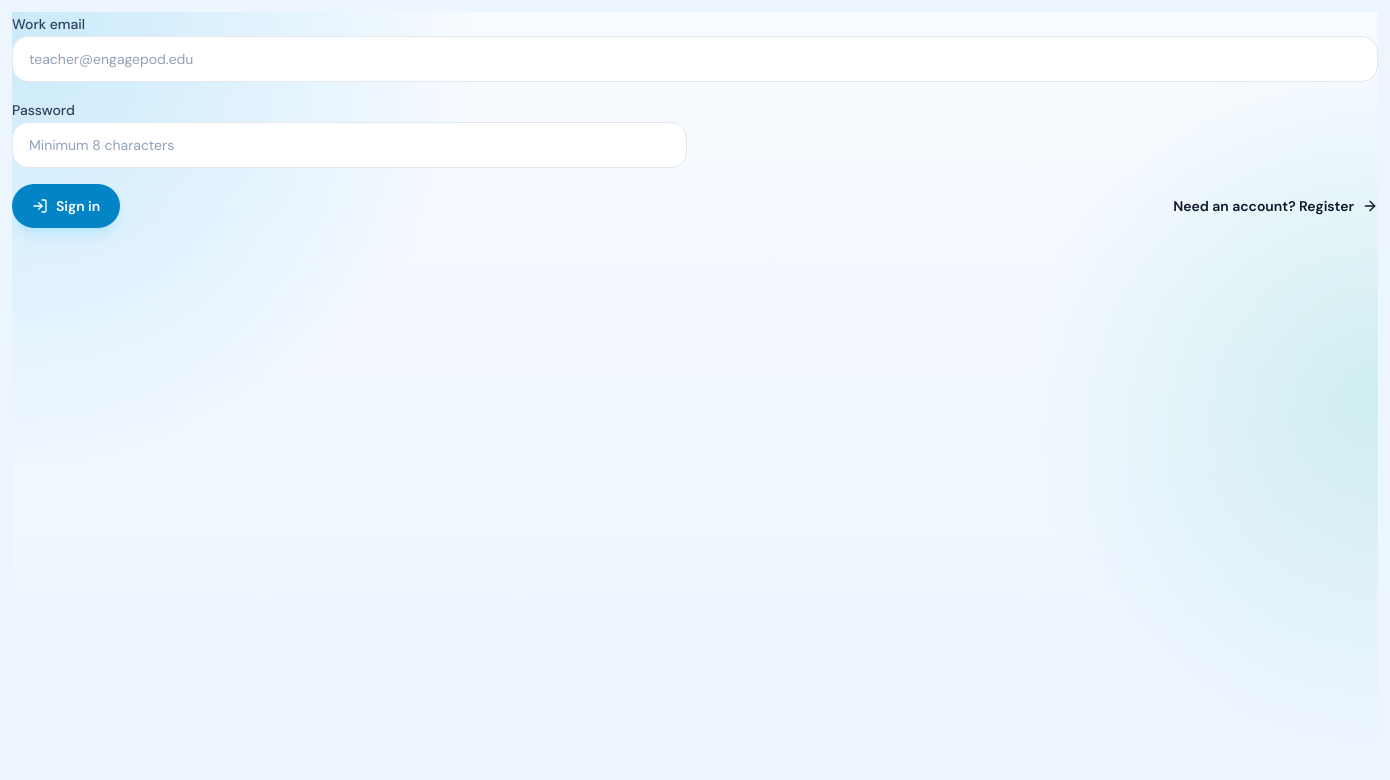
Test: ui components › validates invalid auth payloads
Type "bad-email" into the field labelled "Work email".
click(695, 59); type("bad-email")  # box [12,36,1378,82]
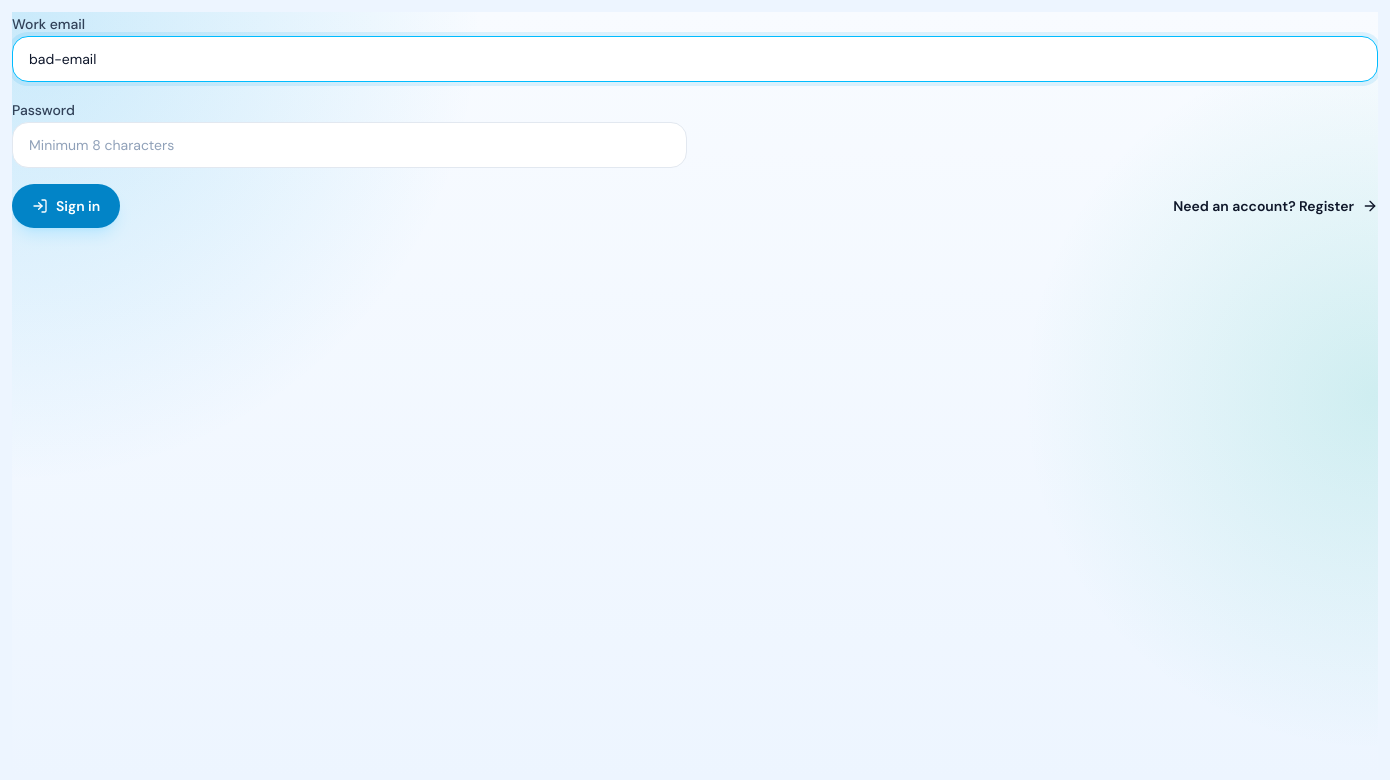
Type "short" into the password field labelled "Password".
click(350, 145); type("short")  # box [12,122,687,168]
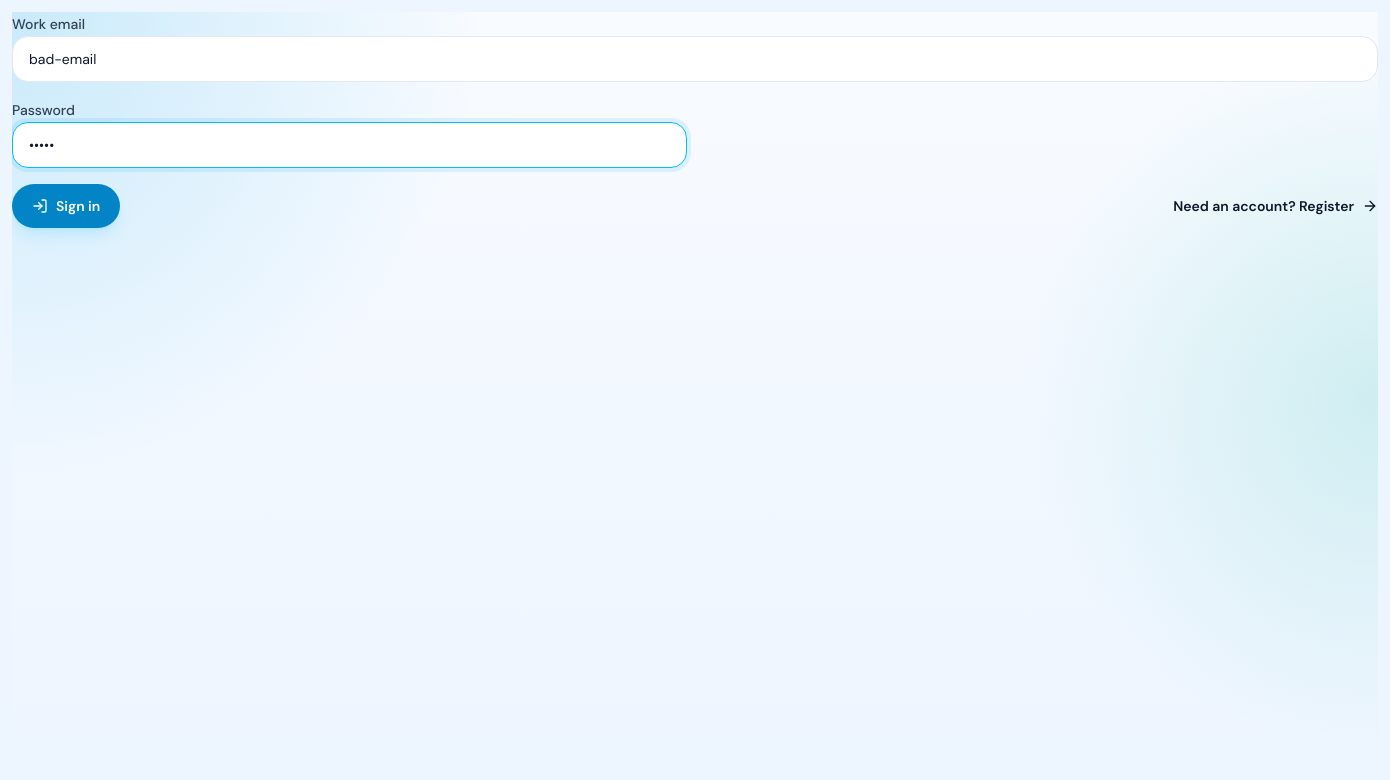
Click the button "Sign in".
click(66, 206)  # box [12,184,120,228]
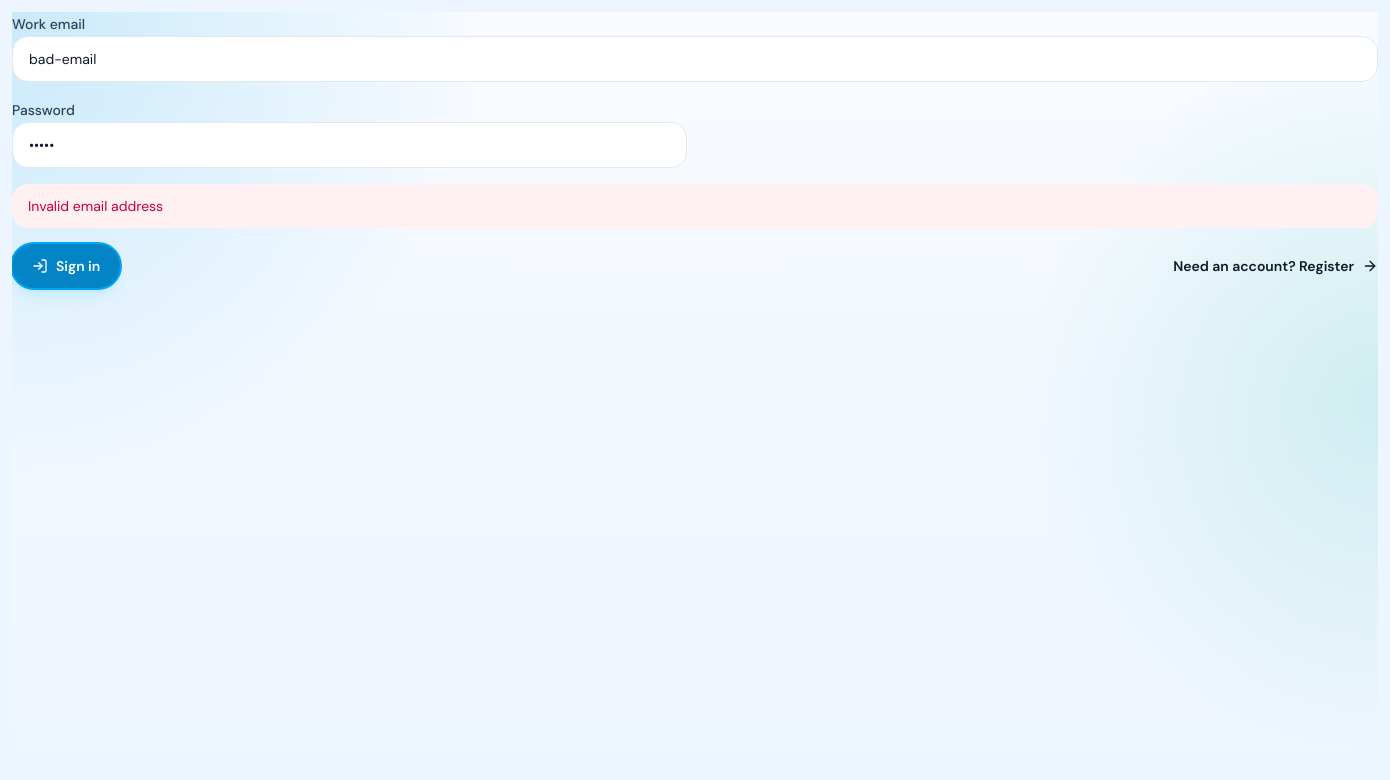
Expected: the text "Invalid email address" is shown, [12,184,1378,228]
